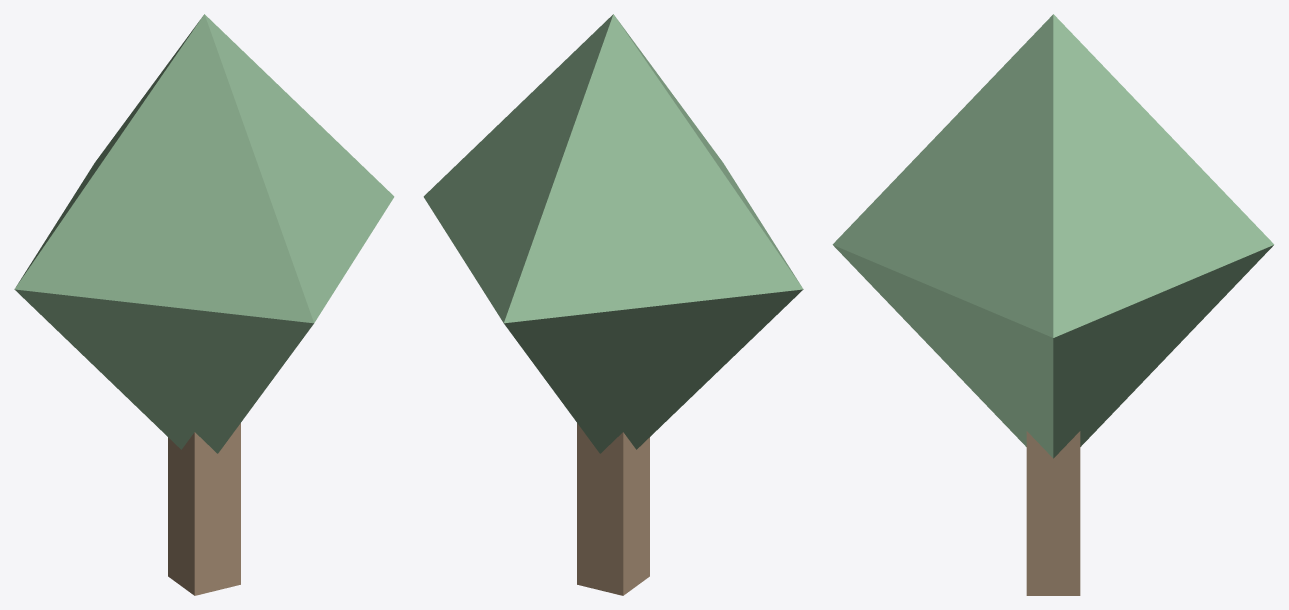
Rendered from tree_lowpoly.glb.
3 renders of one model, left to right at view 1: azimuth 30°, elevation 25°; view 2: azimuth 150°, elevation 25°; view 3: azimuth 270°, elevation 25°, orthographic.
Visible parts, largest first — view 1: tree_crown, tree_trunk; view 2: tree_crown, tree_trunk; view 3: tree_crown, tree_trunk.
Boxes of the visible parts, x1,y1,x2,y2 form: tree_crown: (14, 14, 394, 453); tree_trunk: (168, 423, 240, 595); tree_crown: (423, 14, 803, 453); tree_trunk: (577, 423, 649, 595); tree_crown: (832, 14, 1274, 458); tree_trunk: (1026, 431, 1080, 595).
Size of the model in its own units: 6.6 by 9.4 by 6.6.
